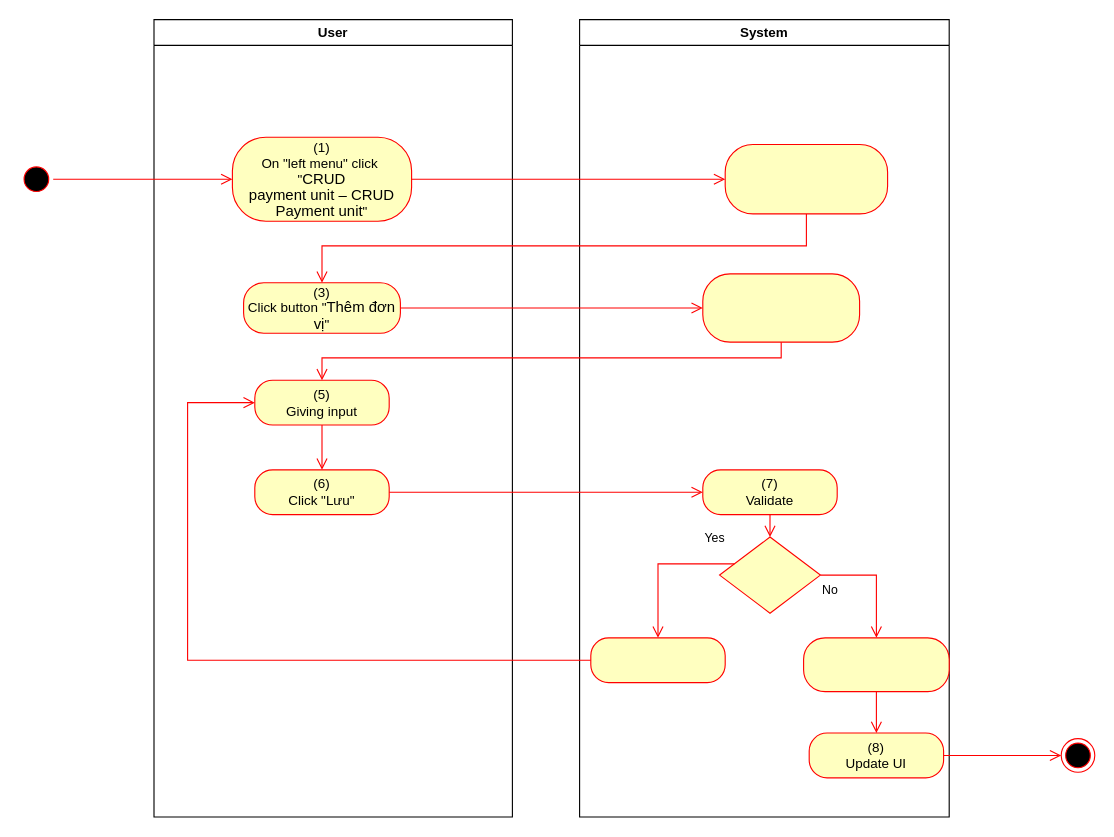
The diagram is 1114 pixels wide and 837 high, and some of its shapes have lost their labels. The centre of each missing label's shape, as x and y in pixels:
(2) Load " List payment unit " screen: point 806,178
(4) Load " CRUD Payment Unit Form ": point 781,307
(7.1) Show MSG: point 657,660
(7.2) Push new payment unit to DB: point 875,664
